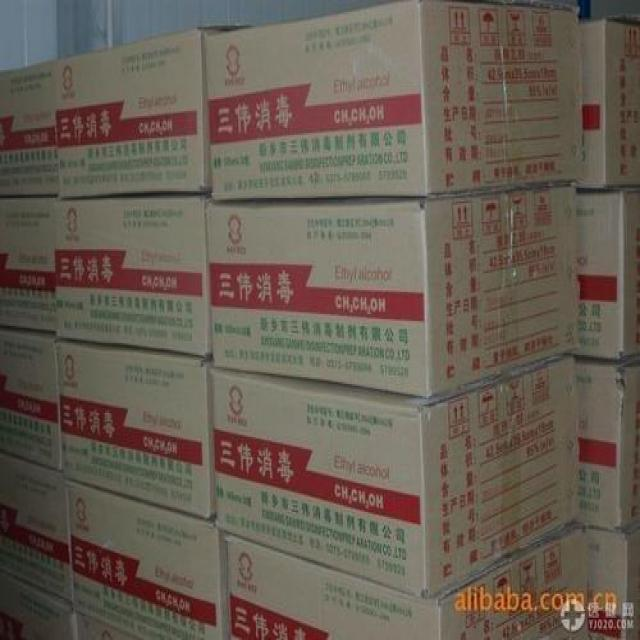box: (212, 350, 574, 594), (205, 185, 580, 398), (204, 0, 582, 196), (225, 529, 593, 640), (54, 25, 224, 198), (58, 339, 219, 519), (59, 477, 224, 640), (50, 193, 208, 362), (570, 356, 640, 530), (572, 194, 640, 364), (0, 452, 73, 608), (576, 16, 640, 190), (0, 332, 60, 476), (0, 61, 61, 201), (0, 196, 54, 340)
